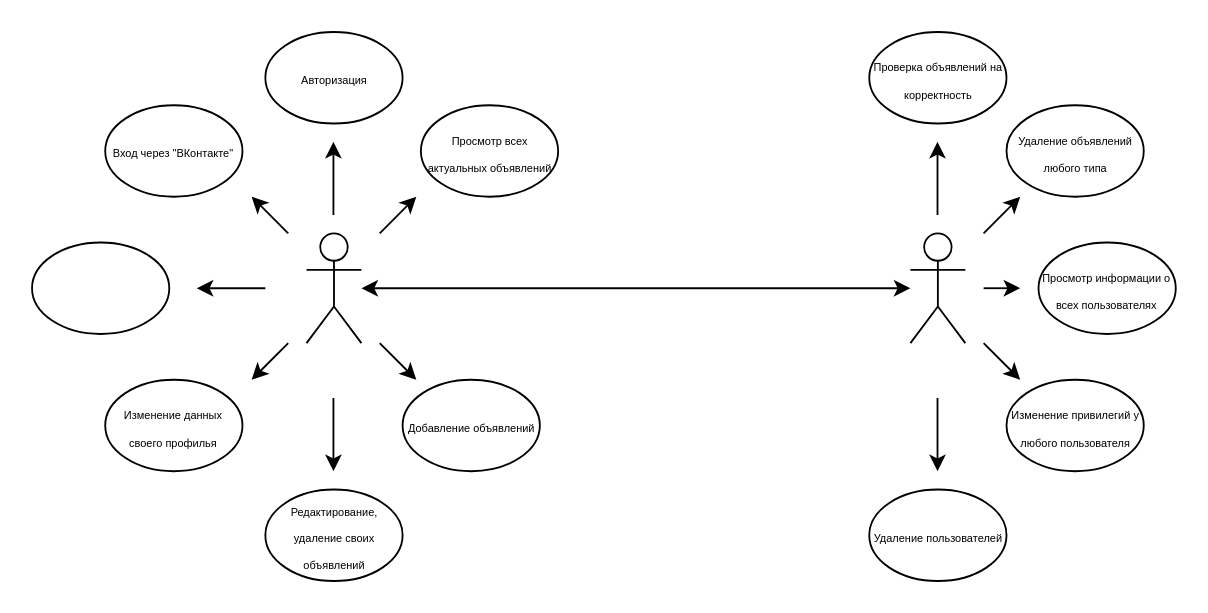
Image size: 1208x613. Some labels were removed from this diagram. The shapes that lost their labels are listed below. From the top down, each one's centre as x and y in pixels, then its label:
the point at 99,287: Регистрация
the point at 333,287: User
the point at 937,287: Admin
